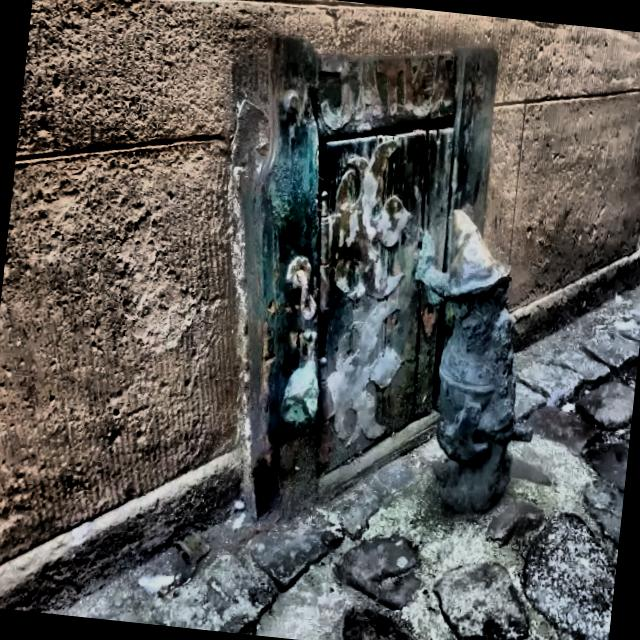Rzeznik: (414, 209, 531, 512)
